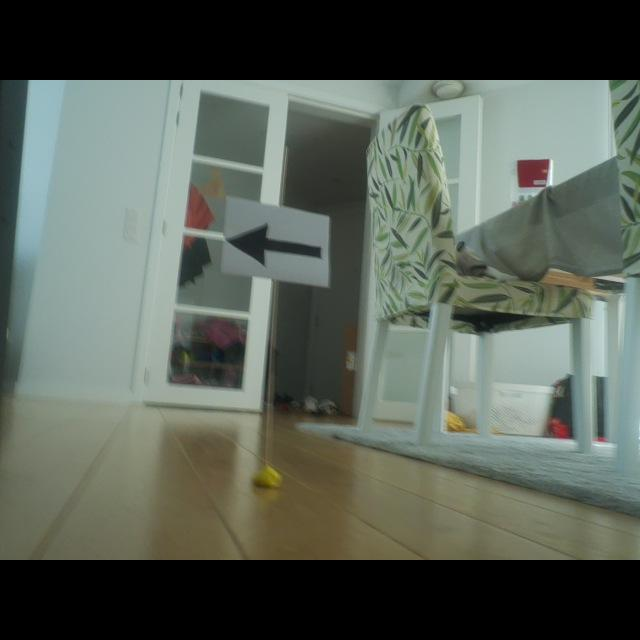balra_nyil: (227, 224, 321, 266)
